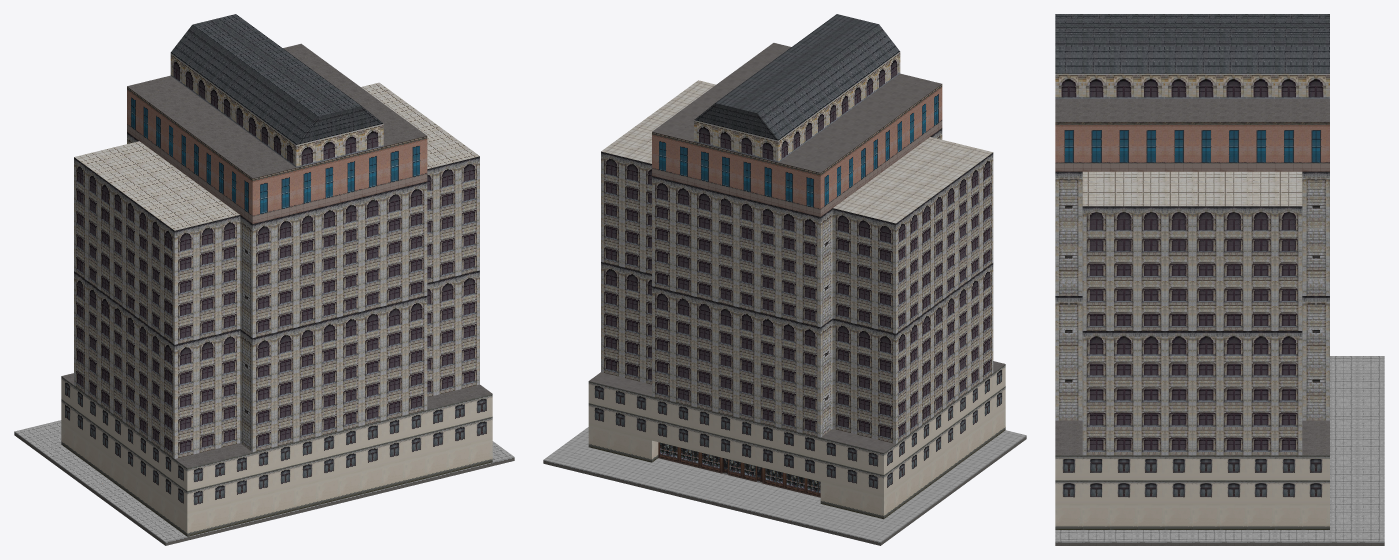
Rendered from building_11_smooth.glb.
3 renders of one model, left to right at view 1: azimuth 30°, elevation 25°; view 2: azimuth 150°, elevation 25°; view 3: azimuth 270°, elevation 25°, orthographic. The views are drawn at different scales.
Parts seen in each view (by area): view 1: building_11_smooth2; view 2: building_11_smooth2; view 3: building_11_smooth2.
Part boxes in pixels (box(x1,y1,x2,y2)): building_11_smooth2: box(14, 14, 514, 545); building_11_smooth2: box(543, 14, 1026, 545); building_11_smooth2: box(1055, 14, 1384, 545).
Size of the model in its own units: 80 by 85.85 by 60.
Materials: 1 (1 with a texture image).
